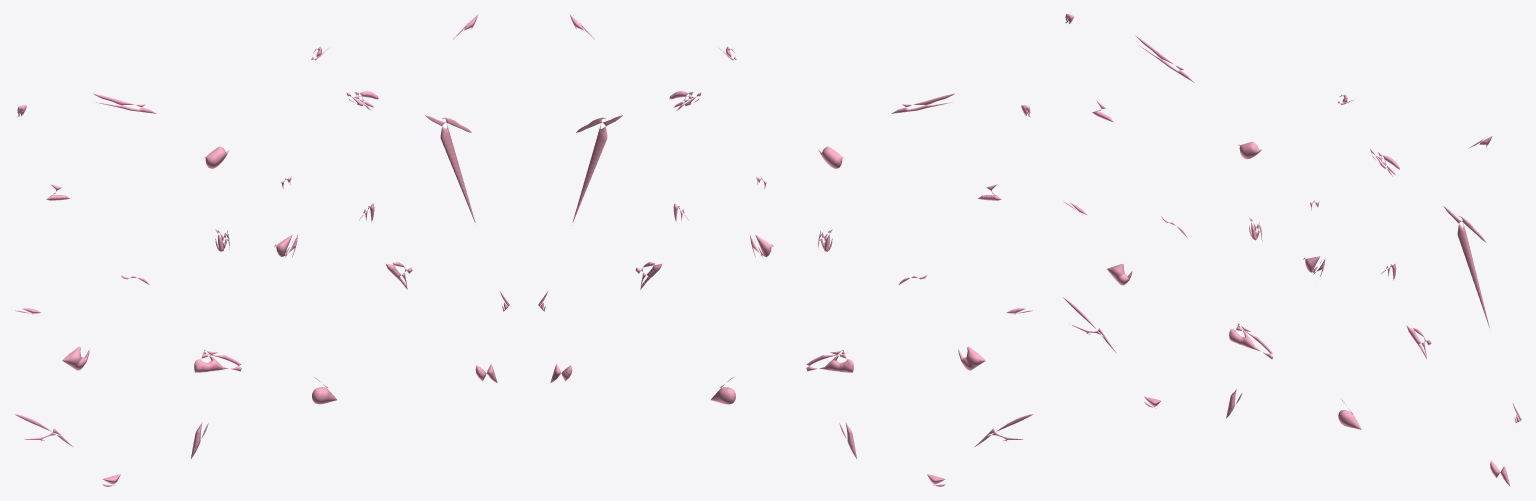
The model's file is Noise_01.fbx.
3 renders of one model, left to right at view 1: azimuth 30°, elevation 25°; view 2: azimuth 150°, elevation 25°; view 3: azimuth 330°, elevation 25°, orthographic. The views are drawn at different scales.
Parts seen in each view (by area): view 1: root (×2); view 2: root (×2); view 3: root (×2).
Part boxes in pixels (bbox=[...]): root (×2): bbox=[194, 115, 476, 372]; root (×2): bbox=[571, 115, 853, 372]; root (×2): bbox=[1229, 205, 1490, 359].
Size of the model in its own units: 0.6816 by 0.5299 by 0.0102.
